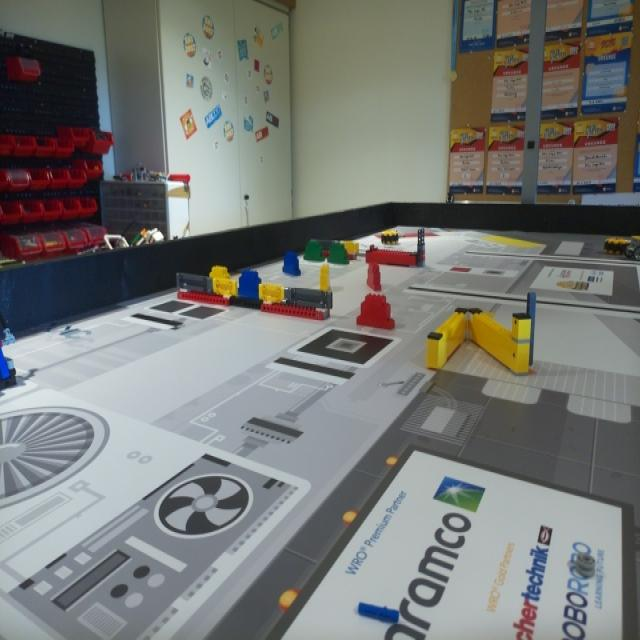blau: (282, 253, 300, 274), (241, 271, 260, 282)
gruen: (329, 245, 348, 265), (305, 240, 323, 261)
rot: (357, 296, 395, 331), (366, 264, 382, 290)
yellow: (209, 266, 228, 277), (320, 267, 330, 287)
